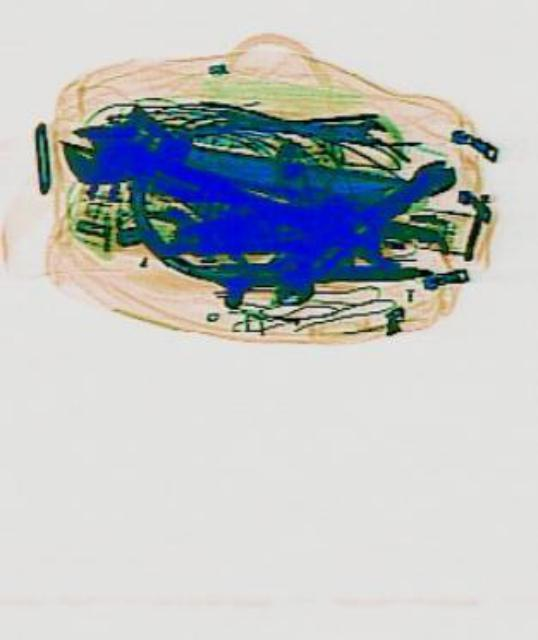Wrench: (51, 104, 279, 242)
